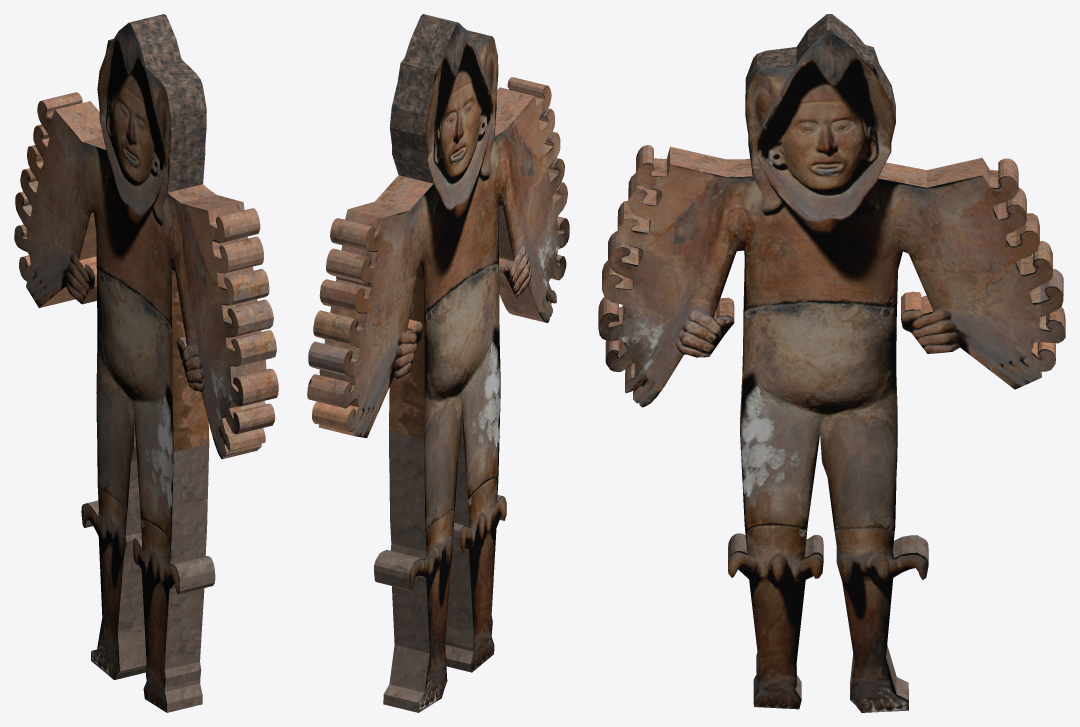
Rendered from noble aguila.fbx.
The picture shows the model from 3 angles, left to right: view 1: azimuth 30°, elevation 25°; view 2: azimuth 150°, elevation 25°; view 3: azimuth 270°, elevation 25°; orthographic projection. The views are drawn at different scales.
Parts seen in each view (by area): view 1: Plane; view 2: Plane; view 3: Plane.
Part boxes in pixels (left/top/right/bottom): Plane: left=14, top=14, right=278, bottom=712; Plane: left=307, top=14, right=569, bottom=712; Plane: left=598, top=14, right=1065, bottom=712.
Bounding box in the file's own units: 49.87 × 898 × 558.
